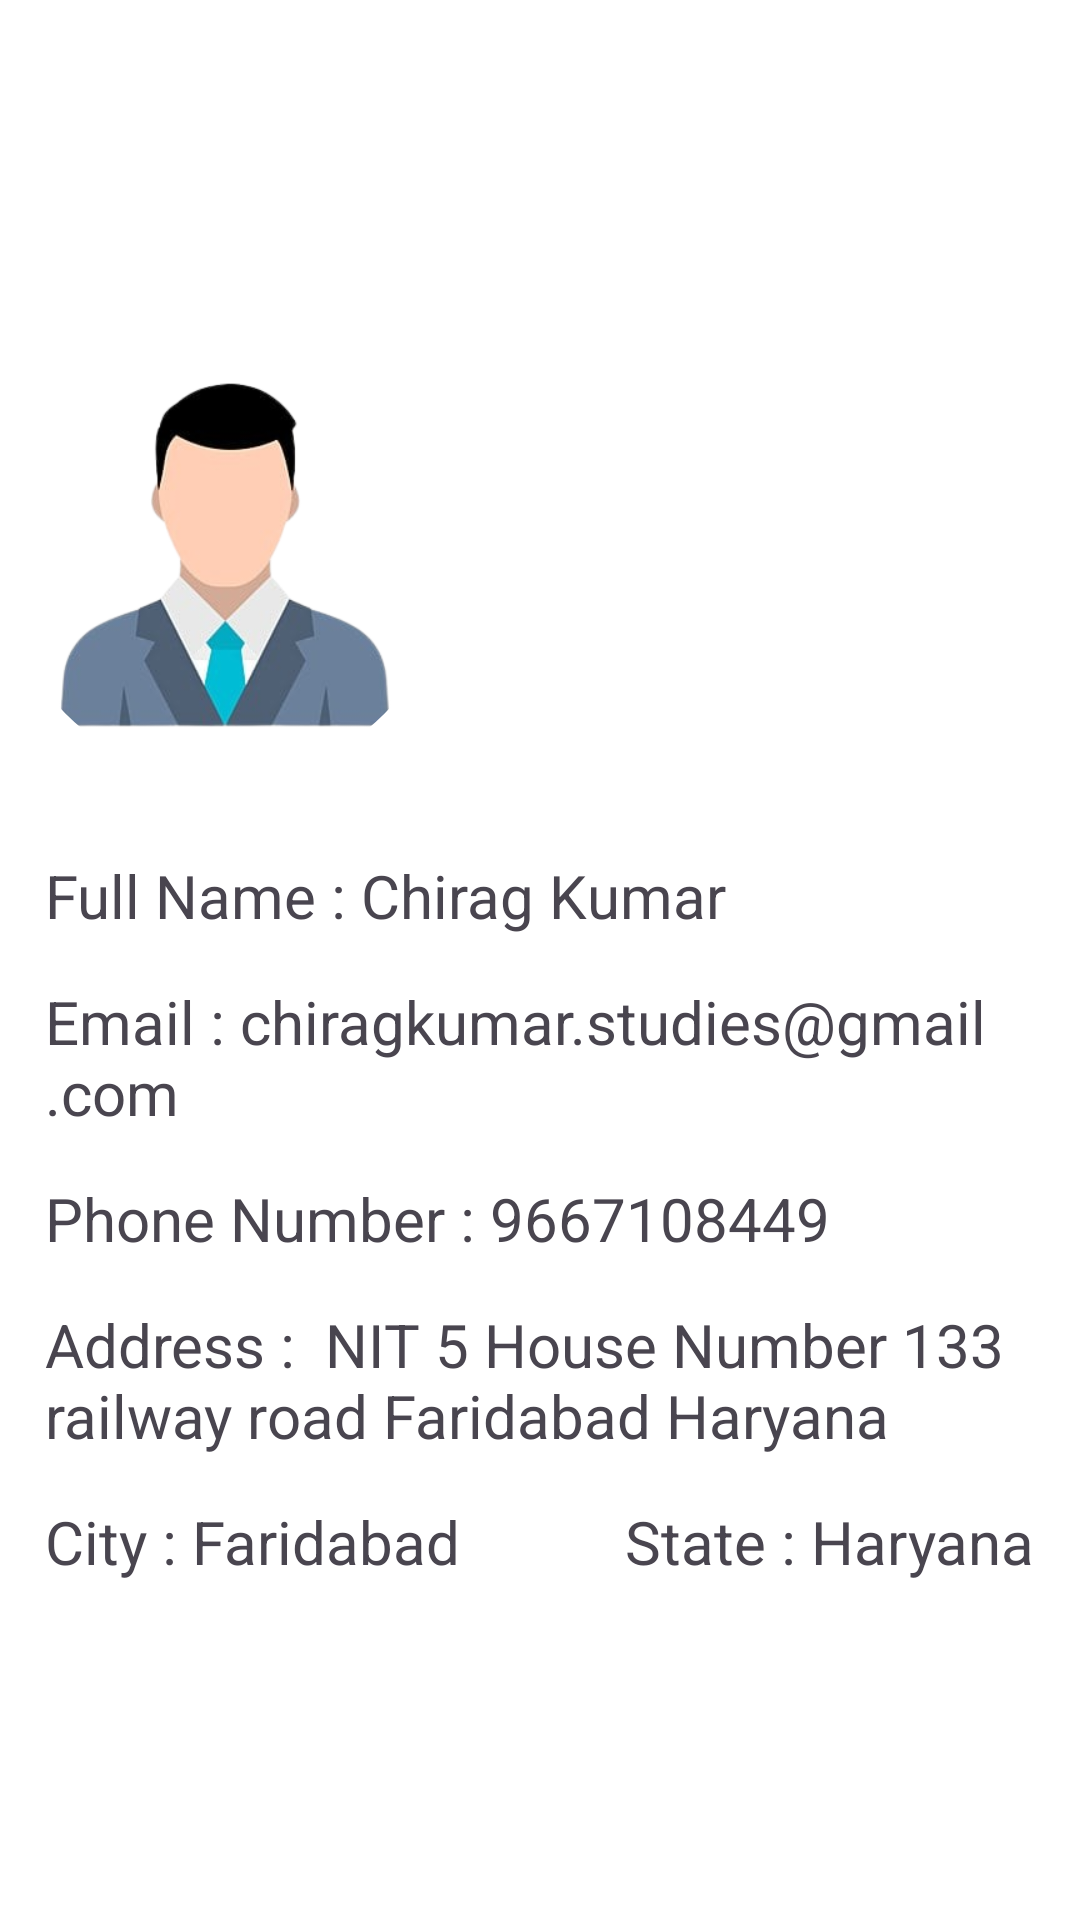

Named icons in this screenshot (1080px x 1920px) and their bounding boxes, (left=x1, top=y1, right=x2, bottom=y2):
user: (left=61, top=383, right=389, bottom=727)
